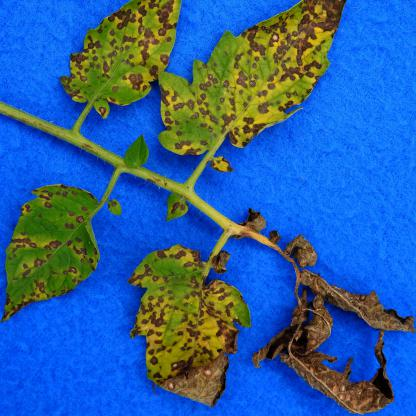tomato septoria leaf spot: (158, 2, 363, 166), (128, 246, 262, 416), (0, 171, 108, 329), (61, 2, 182, 119)
